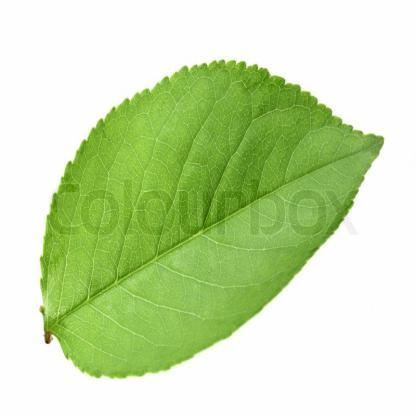Apple leaf: (39, 58, 391, 386)
